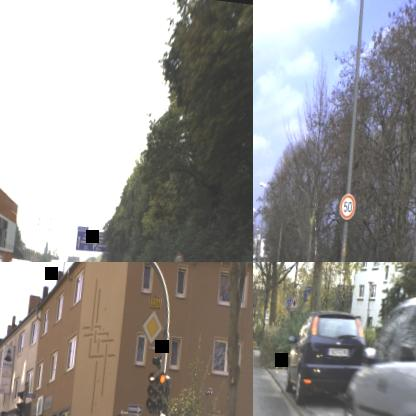priority at next intersection: (287, 292, 301, 310)
priority road: (138, 306, 165, 347)
speed limit 50: (338, 192, 356, 221)
speed limit 60: (172, 251, 183, 262)
